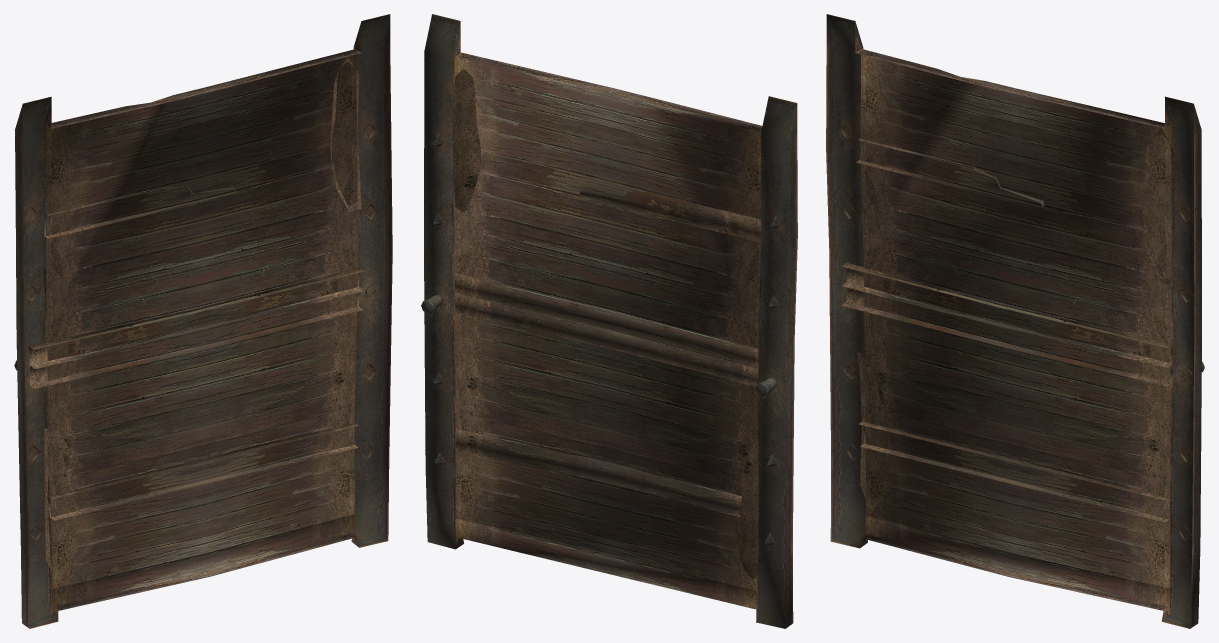
File: muban.FBX
3 views of the same model, side by side, from view 1: azimuth 30°, elevation 25°; view 2: azimuth 150°, elevation 25°; view 3: azimuth 330°, elevation 25° (orthographic).
Parts seen in each view (by area): view 1: Mesh_0323; view 2: Mesh_0323; view 3: Mesh_0323.
Part boxes in pixels (<box>): Mesh_0323: <box>14,14,392,628</box>; Mesh_0323: <box>421,14,797,628</box>; Mesh_0323: <box>826,14,1204,628</box>.
Bounding box in the file's own units: 10.06 × 13.7 × 1.02.
1 material, 1 textured.
